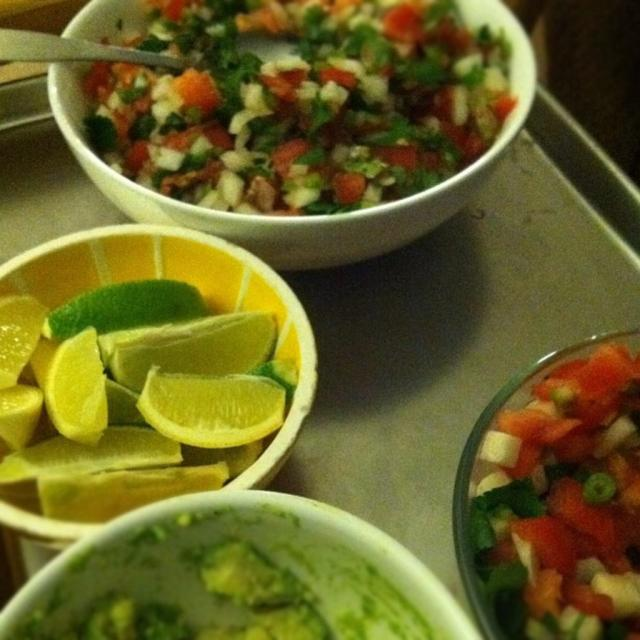Lemon: (0, 280, 296, 519)
